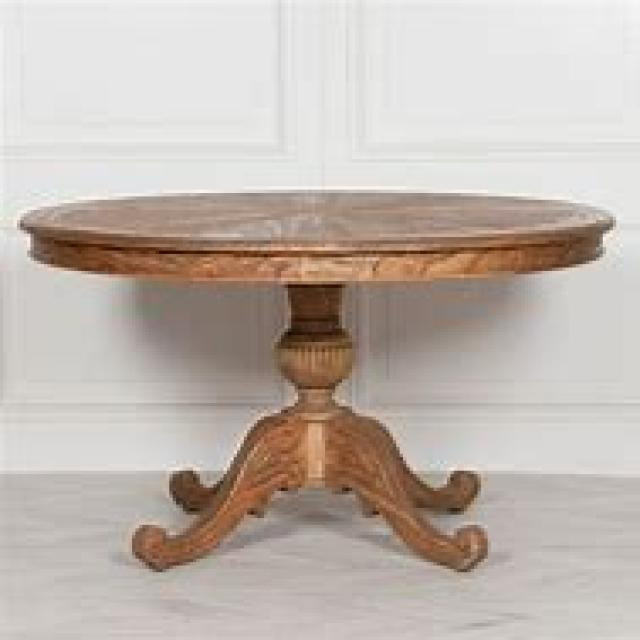table: (14, 187, 616, 572)
